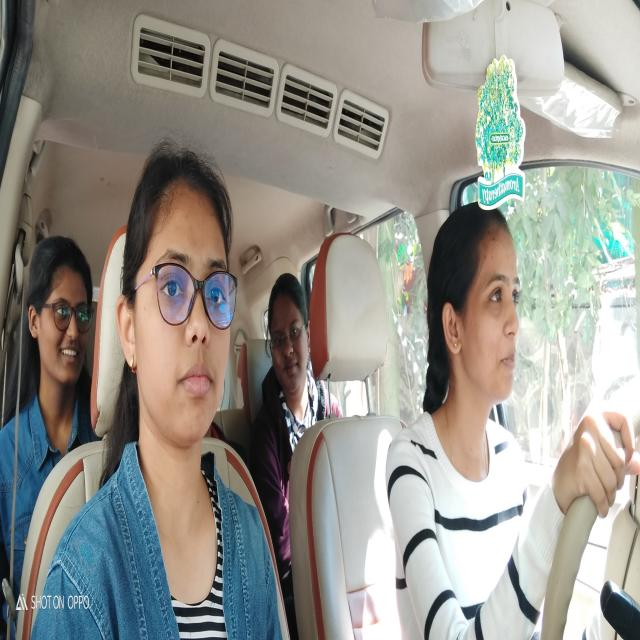person: (119, 143, 240, 460), (428, 196, 524, 405), (26, 228, 94, 377), (266, 269, 313, 396)
